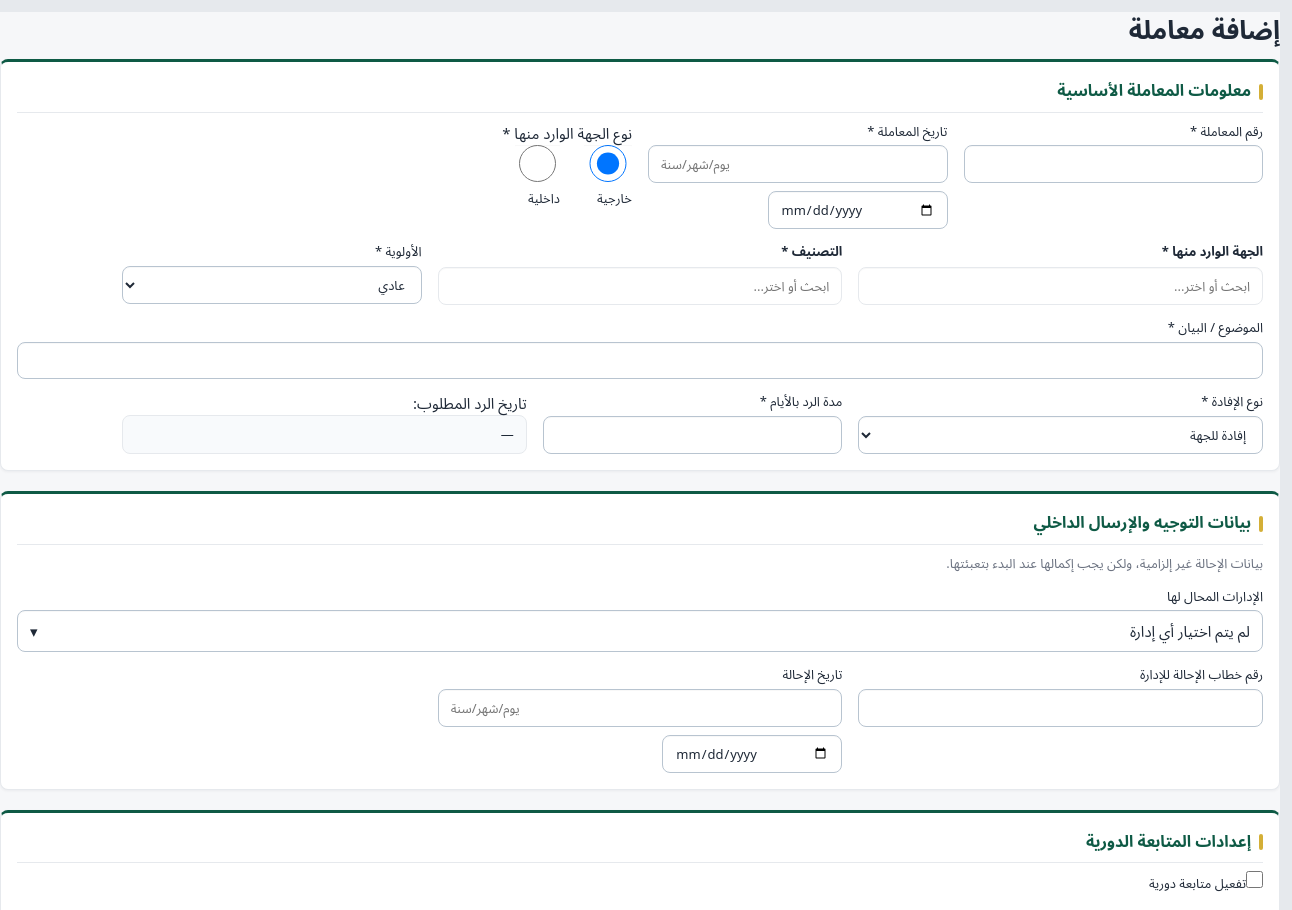
Test case: TransactionForm incoming layout › renders routing fields in the approved order and keeps department routing as a multi-select
Expected: the text "بيانات الإحالة غير إلزامية، ولكن يجب إكمالها عند البدء بتعبئتها." is shown, [946,554,1263,572]
Expected: the text "الإدارات المحال لها" is shown, [1167,587,1263,605]
Click the button "لم يتم اختيار أي إدارة ▾" at (1190, 631), box [17,610,1263,652]
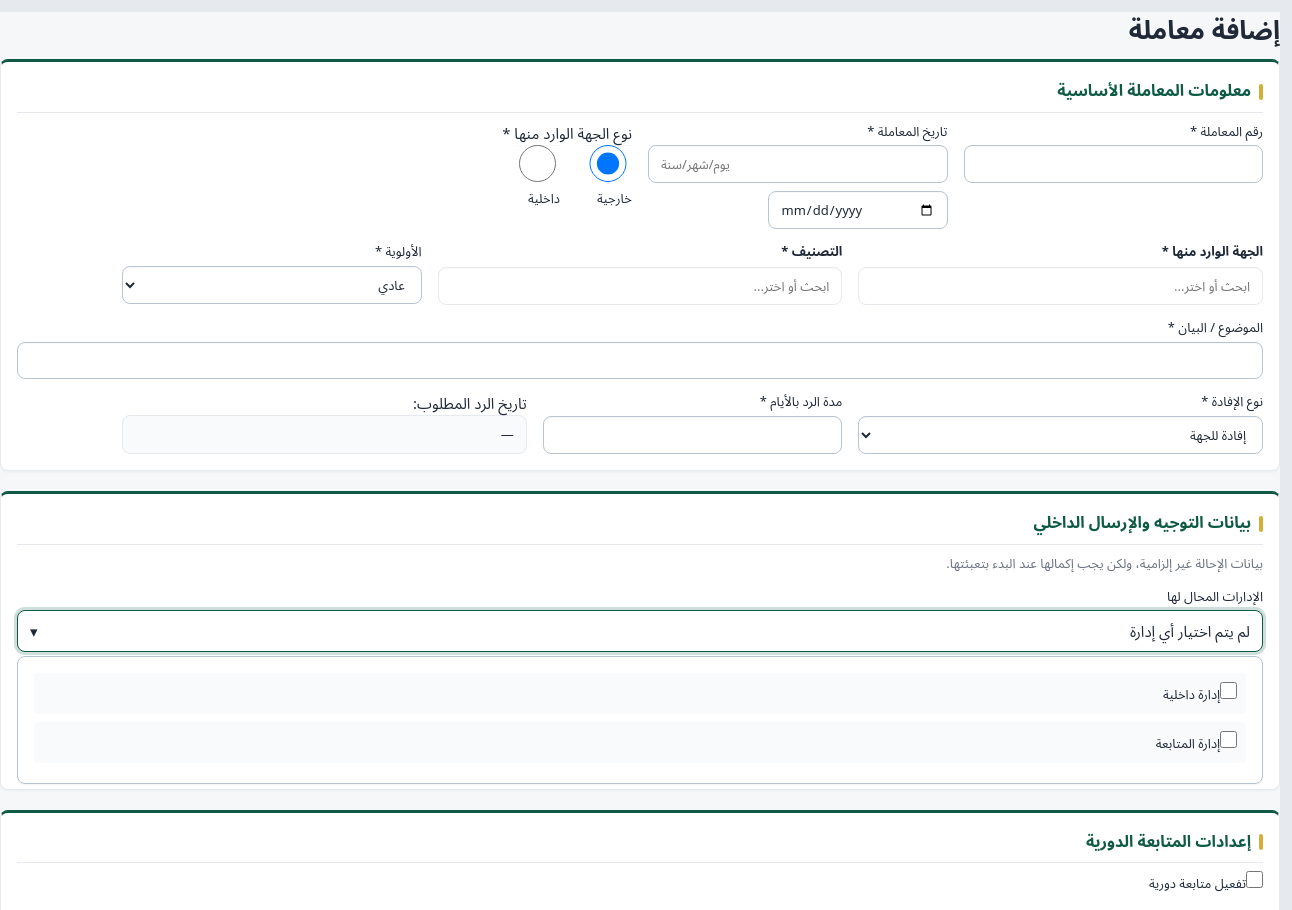
Click the checkbox labelled "إدارة داخلية" at (1229, 691), box [1220,682,1237,699]
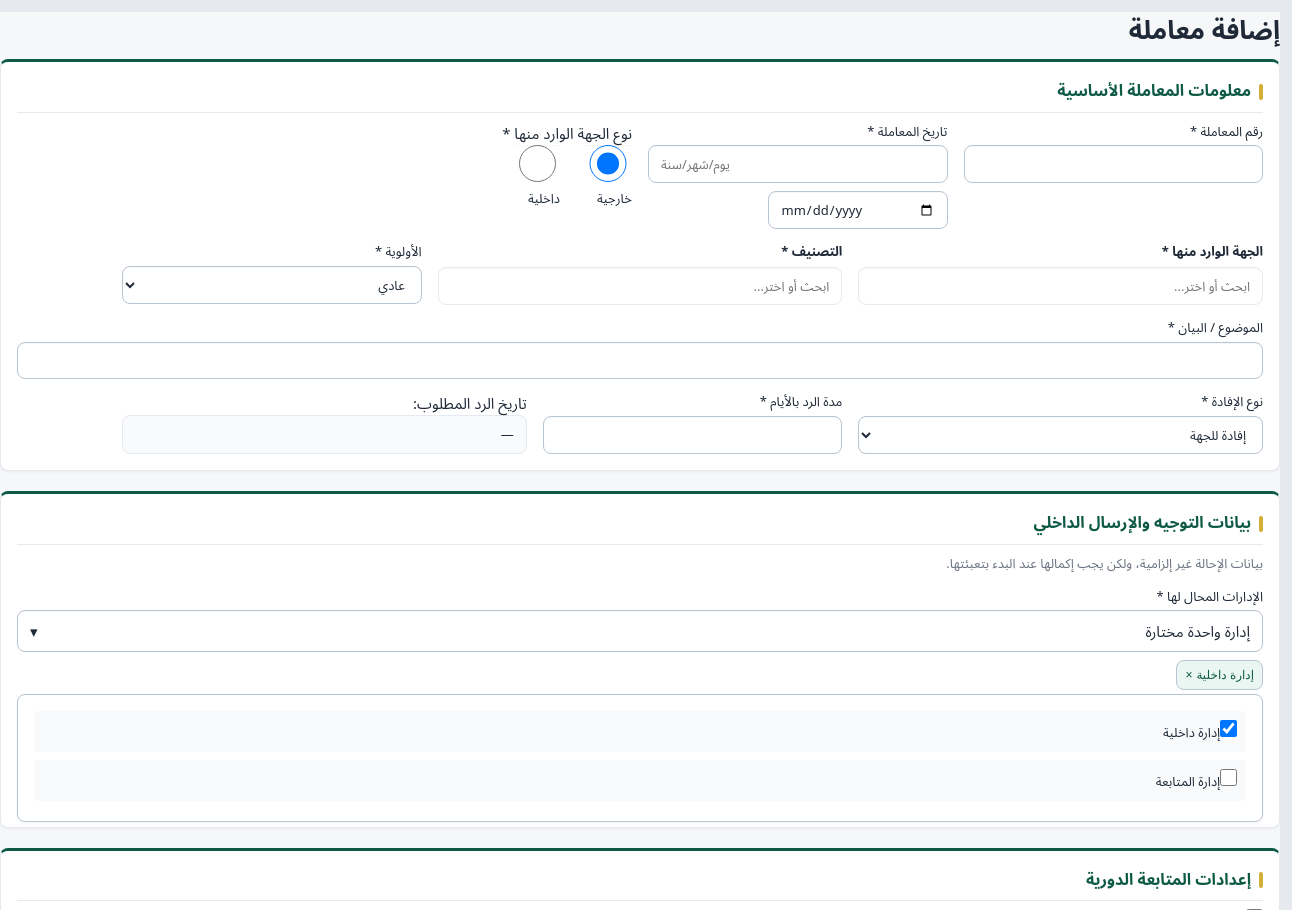
Click the checkbox labelled "إدارة المتابعة" at (1229, 777), box [1220,769,1237,786]
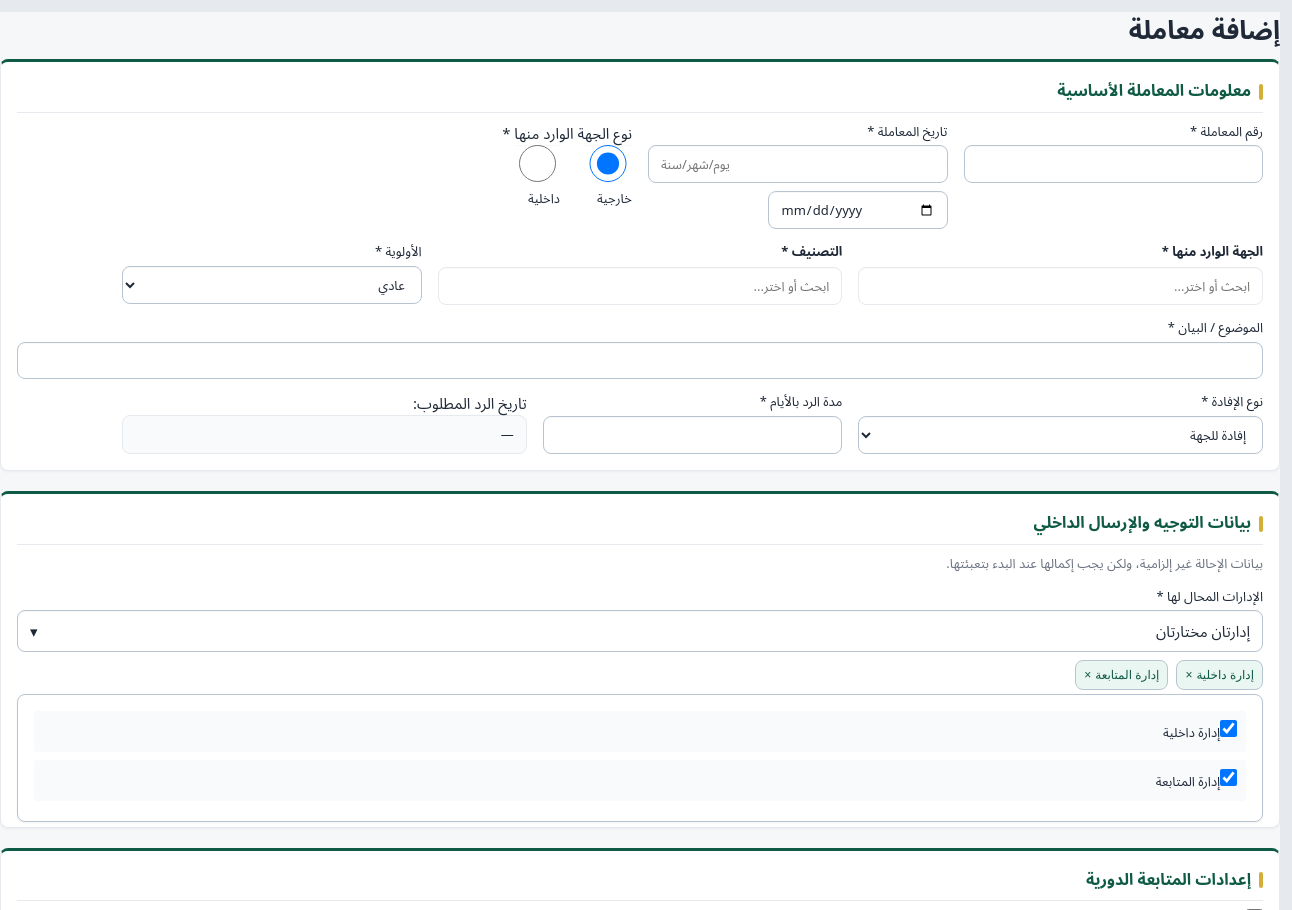
Now the text "إدارتان مختارتان" is shown, box [1156,619,1250,643]
